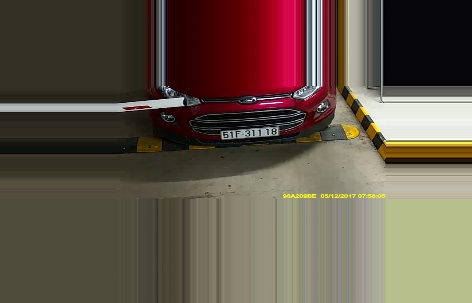plate: (218, 124, 278, 142)
